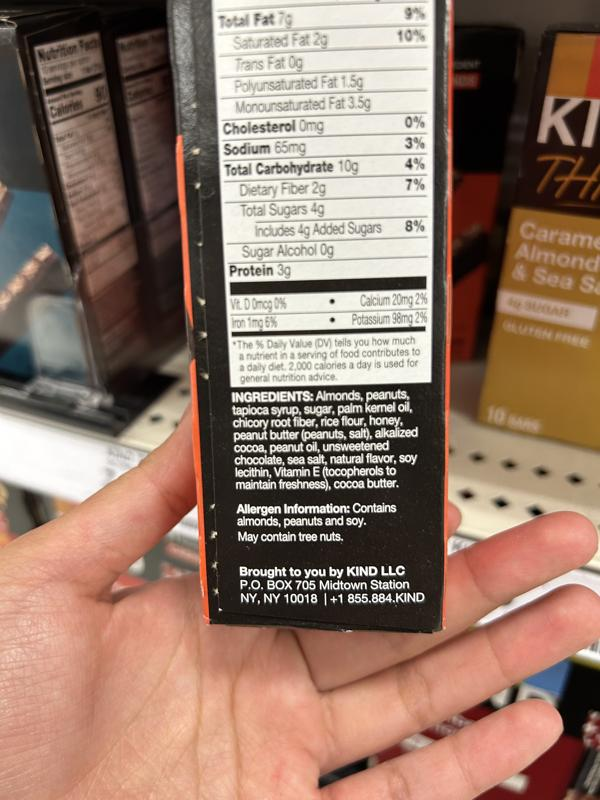ingredients: (229, 388, 424, 493)
